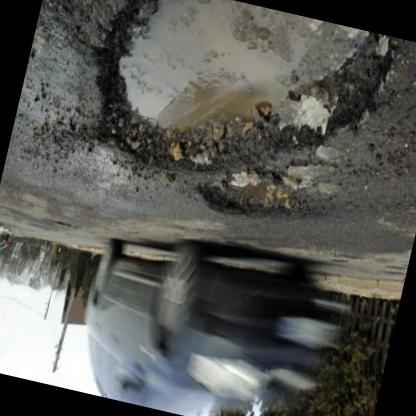pothole: (70, 0, 404, 225), (192, 154, 337, 240)
